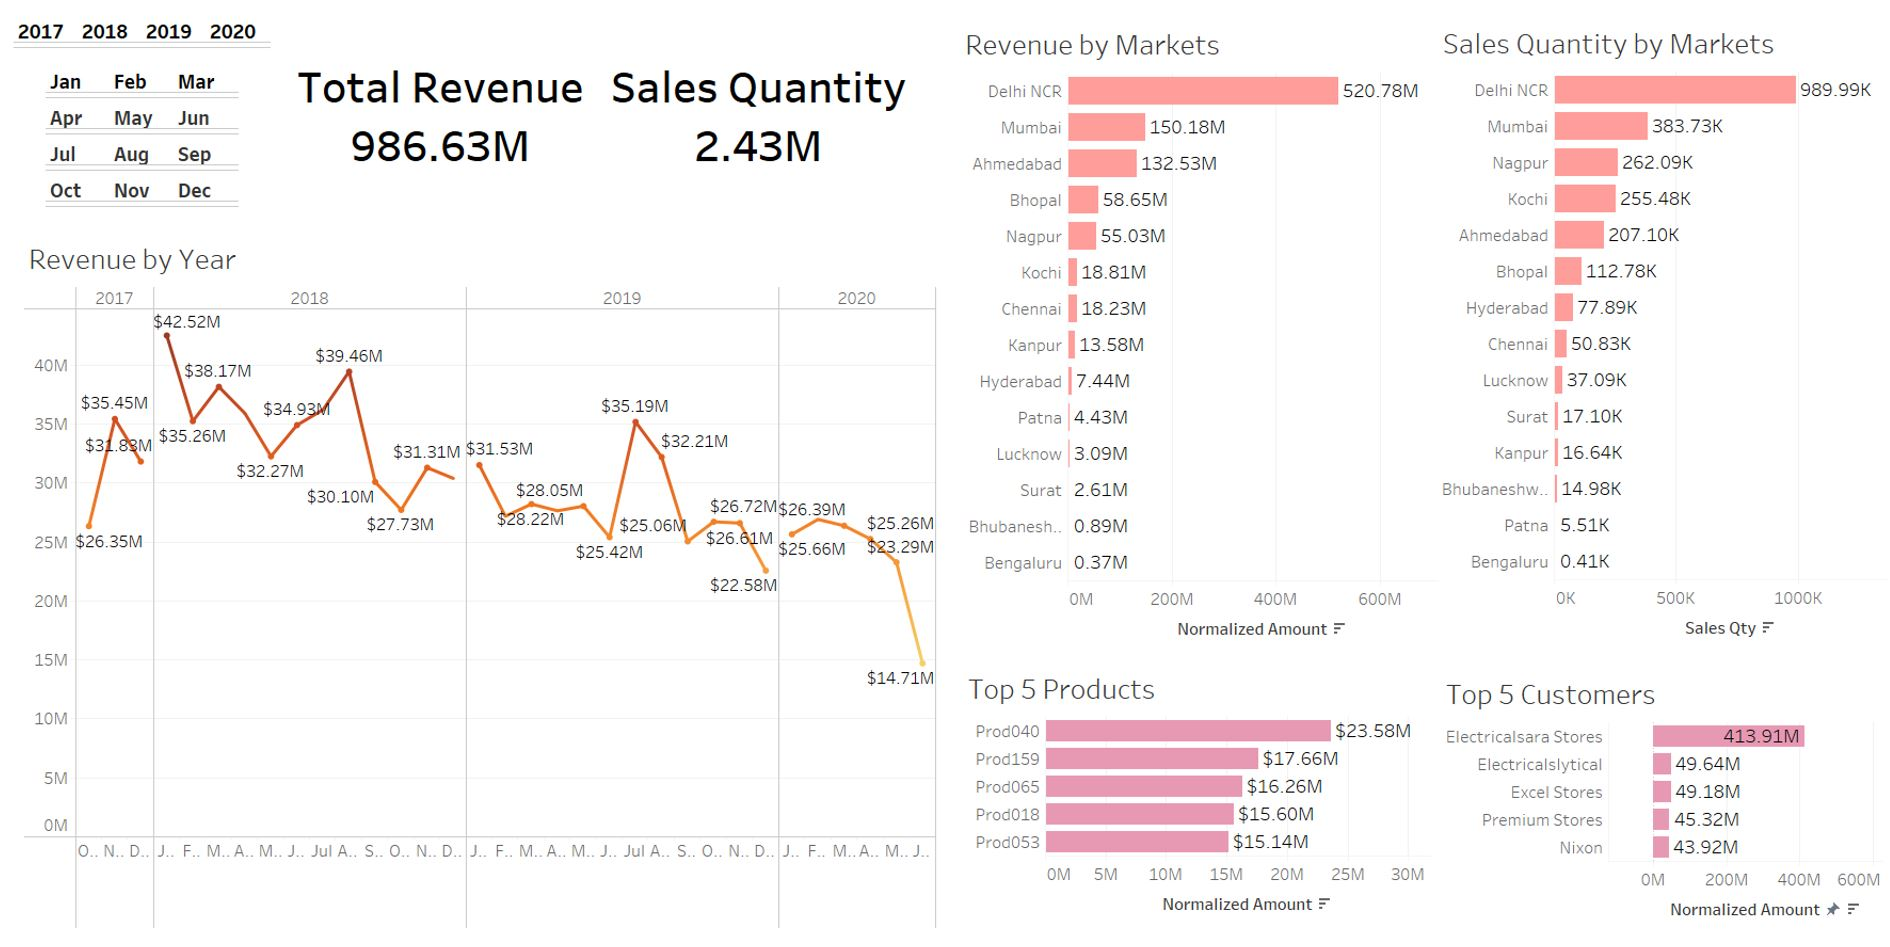

The dashboard page shown, as its layout file describes it:
{"tool":"tableau","page":{"name":"Dashboard 1","canvas":[1800,900],"ordinal":0},"visuals":[{"type":"worksheet","title":"Sales Quantity by Markets","mark":"Automatic","rows":["markets_name"],"cols":["sales_qty"],"box":[1359,18,421,597]},{"type":"worksheet","title":"Revenue by Markets","mark":"Automatic","rows":["markets_name"],"cols":["Calculation_157907507693416448"],"box":[911,19,449,616]},{"type":"worksheet","title":"Year","mark":"Automatic","cols":["cy_date"],"box":[22.5,20.2,280.1,32.6]},{"type":"worksheet","title":"Revenue","mark":"Automatic","box":[280,50,288,174]},{"type":"worksheet","title":"Quantity","mark":"Automatic","box":[568,50,308,174]},{"type":"worksheet","title":"Month Q1","mark":"Automatic","cols":["cy_date"],"box":[49.5,63,227.2,34]},{"type":"worksheet","title":"Month Q2","mark":"Automatic","cols":["cy_date"],"box":[49.5,97,227.2,34]},{"type":"worksheet","title":"Month Q3","mark":"Automatic","cols":["cy_date"],"box":[49.5,131,227.2,34]},{"type":"worksheet","title":"Month Q4","mark":"Automatic","cols":["cy_date"],"box":[49.5,165,227.2,34]},{"type":"worksheet","title":"Revenue by Year","mark":"Automatic","rows":["Calculation_157907507693416448"],"cols":["cy_date","cy_date"],"box":[33,220,855,652]},{"type":"worksheet","title":"Top 5 Products","mark":"Automatic","rows":["product_code (products)"],"cols":["Calculation_157907507693416448"],"box":[914,623,437,249]},{"type":"worksheet","title":"Top 5 Customers","mark":"Automatic","rows":["custmer_name"],"cols":["Calculation_157907507693416448"],"box":[1362,628,413,255]}]}

Visuals, with their boxes in screenshot pixels (x1, y1, x2, y2), scaled from the page's 1800x900 canvas onto the 1890x947 screenshot:
"Sales Quantity by Markets" worksheet: box=[1427, 19, 1869, 647]
"Revenue by Markets" worksheet: box=[957, 20, 1428, 668]
"Year" worksheet: box=[24, 21, 318, 56]
"Revenue" worksheet: box=[294, 53, 596, 236]
"Quantity" worksheet: box=[596, 53, 920, 236]
"Month Q1" worksheet: box=[52, 66, 291, 102]
"Month Q2" worksheet: box=[52, 102, 291, 138]
"Month Q3" worksheet: box=[52, 138, 291, 174]
"Month Q4" worksheet: box=[52, 174, 291, 209]
"Revenue by Year" worksheet: box=[35, 231, 932, 918]
"Top 5 Products" worksheet: box=[960, 656, 1419, 918]
"Top 5 Customers" worksheet: box=[1430, 661, 1864, 929]
